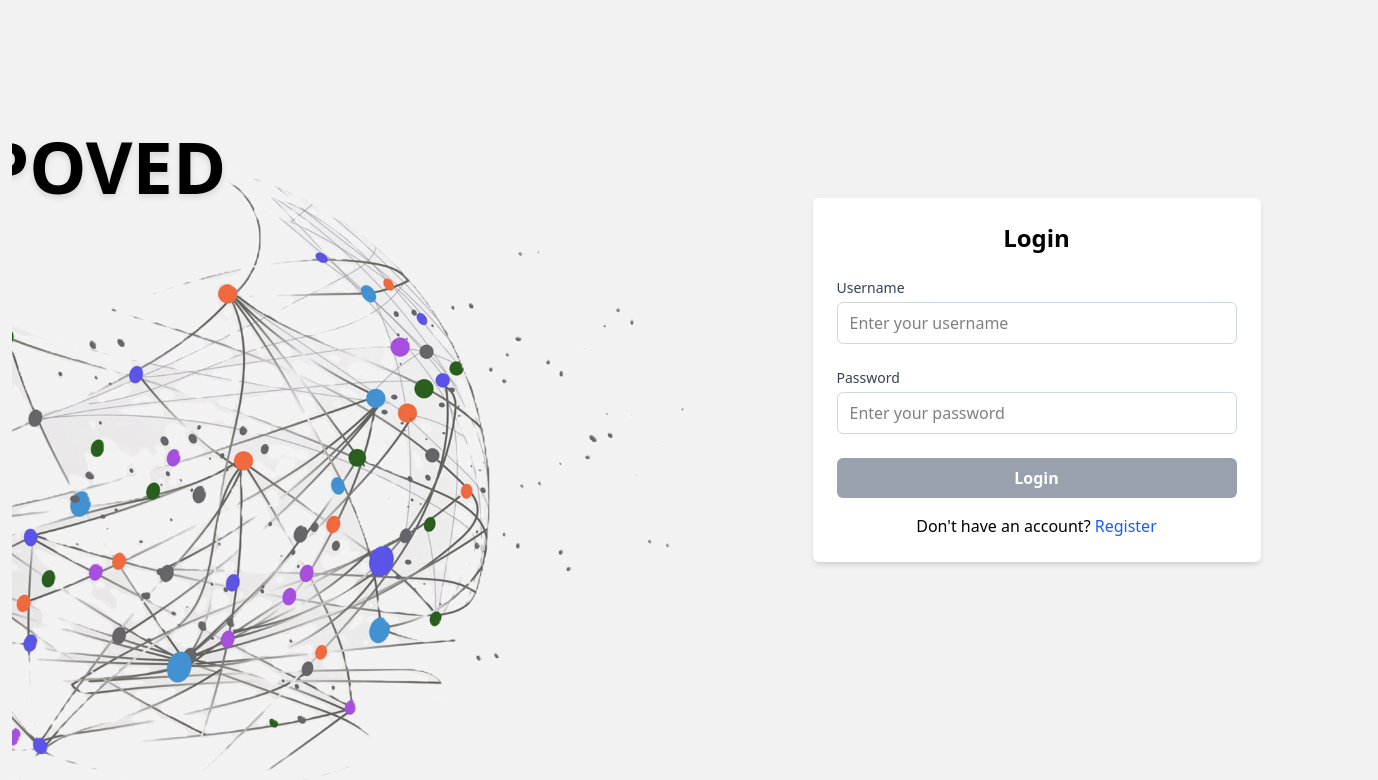
it: LoginView Component Tests › should handle login failure with incorrect credentials
The width and height of the screenshot is (1378, 780).
Type "testuser" into the field with placeholder "Enter your username" at (1036, 323), box x1=836 y1=302 x2=1236 y2=344
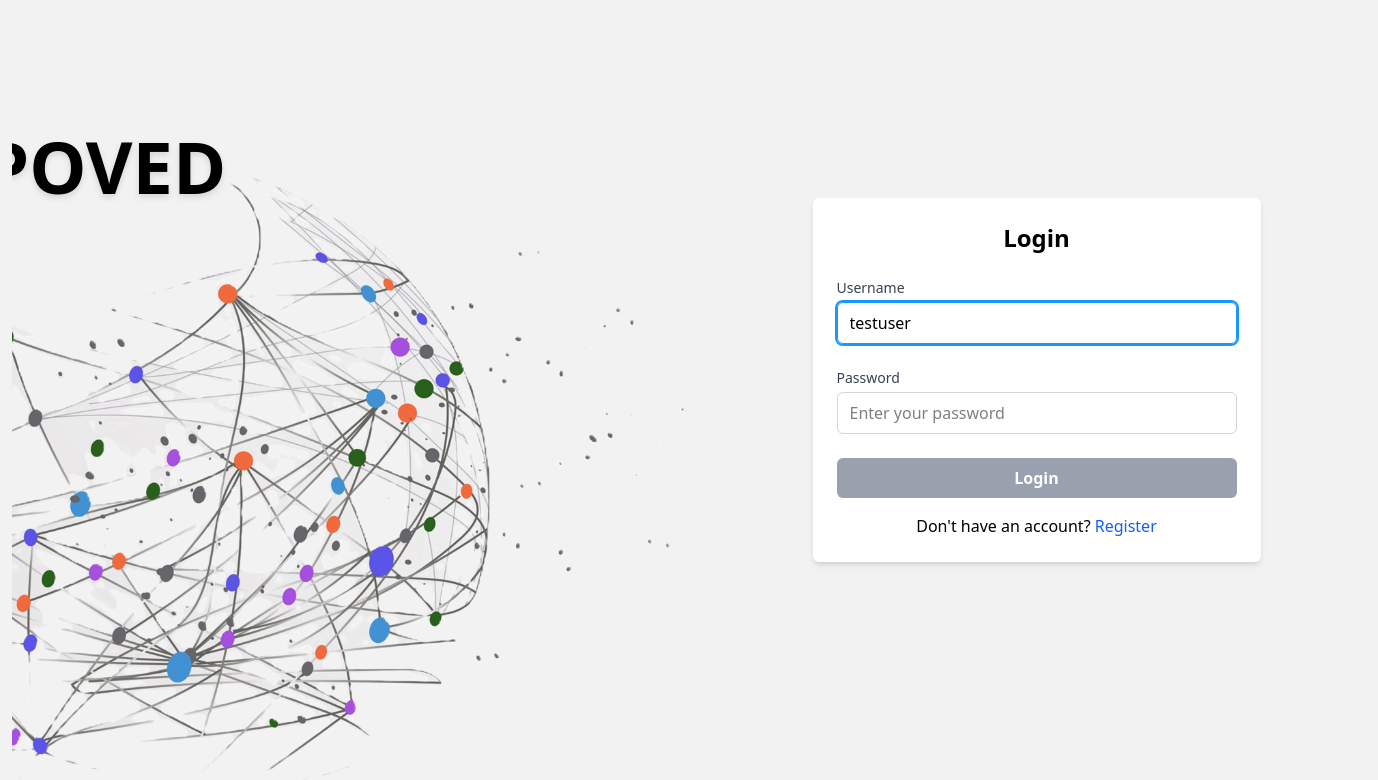
Type "wrongpassword" into the password field with placeholder "Enter your password" at (1036, 413), box x1=836 y1=392 x2=1236 y2=434
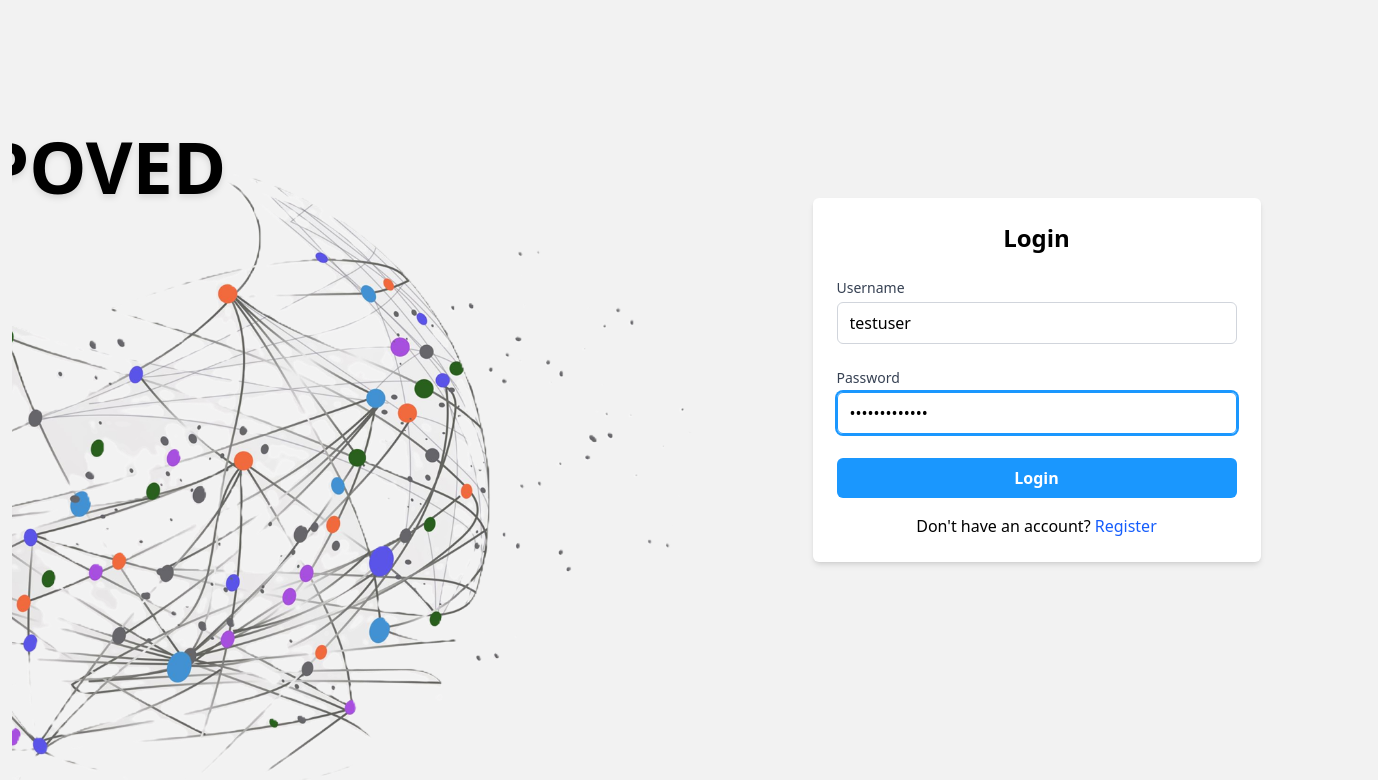
Click the button "Login" at (1036, 478), box x1=836 y1=458 x2=1236 y2=498
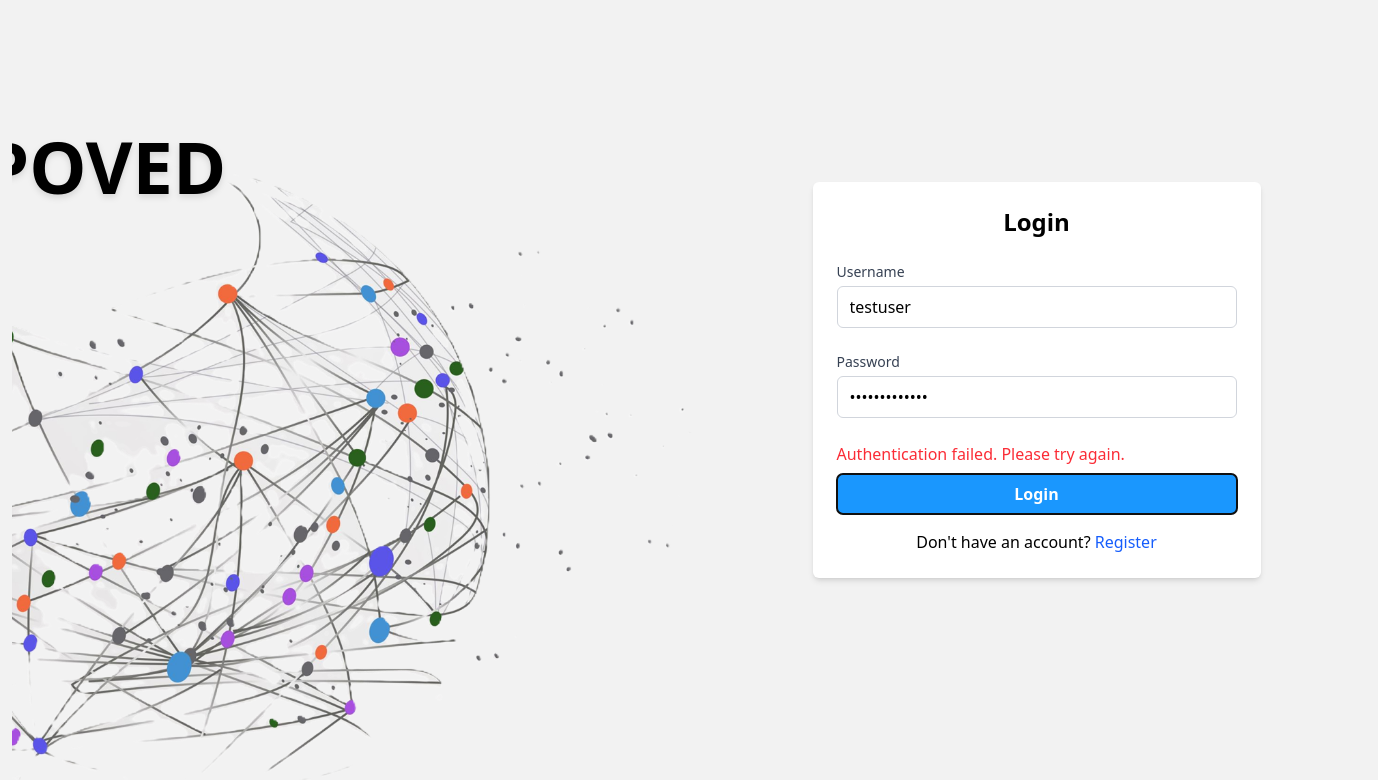
Now the text "Authentication failed. Please try again." is shown, box x1=836 y1=443 x2=1125 y2=465
